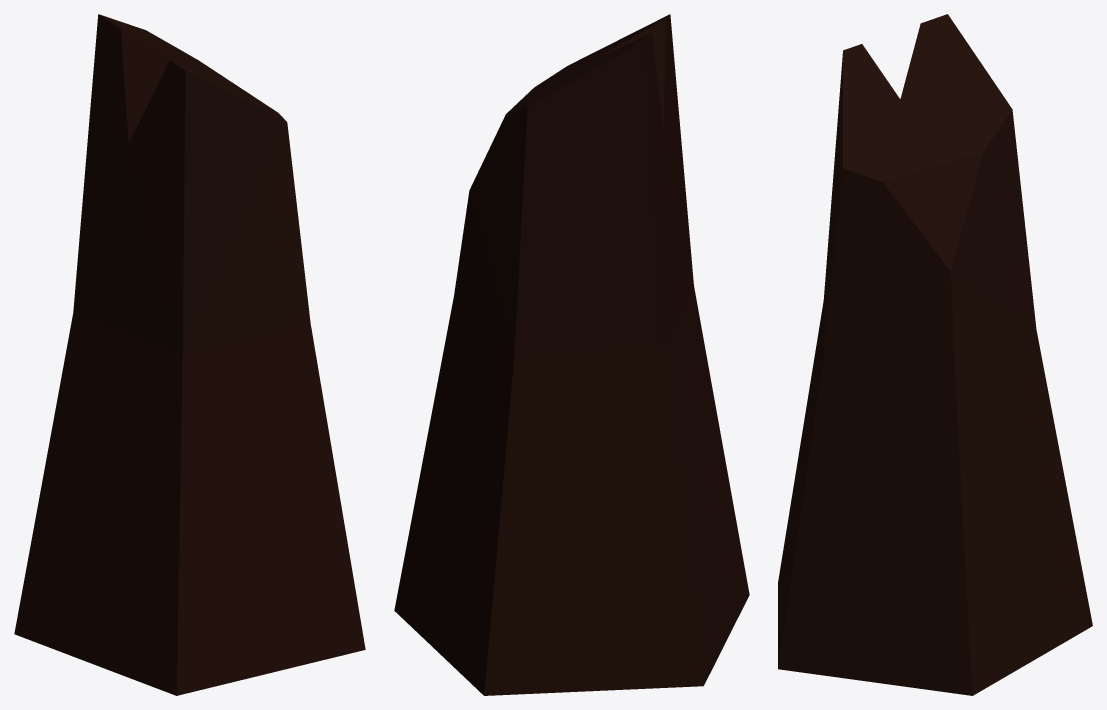
Rendered from TreeStump1.fbx.glb.
3 renders of one model, left to right at view 1: azimuth 30°, elevation 25°; view 2: azimuth 150°, elevation 25°; view 3: azimuth 270°, elevation 25°, orthographic. The views are drawn at different scales.
Parts seen in each view (by area): view 1: TreeStump1; view 2: TreeStump1; view 3: TreeStump1.
Boxes of the visible parts, x1,y1,x2,y2 form: TreeStump1: [14, 14, 365, 695]; TreeStump1: [394, 14, 749, 695]; TreeStump1: [778, 14, 1092, 695].
Size of the model in its own units: 54.4 by 104 by 51.74.
